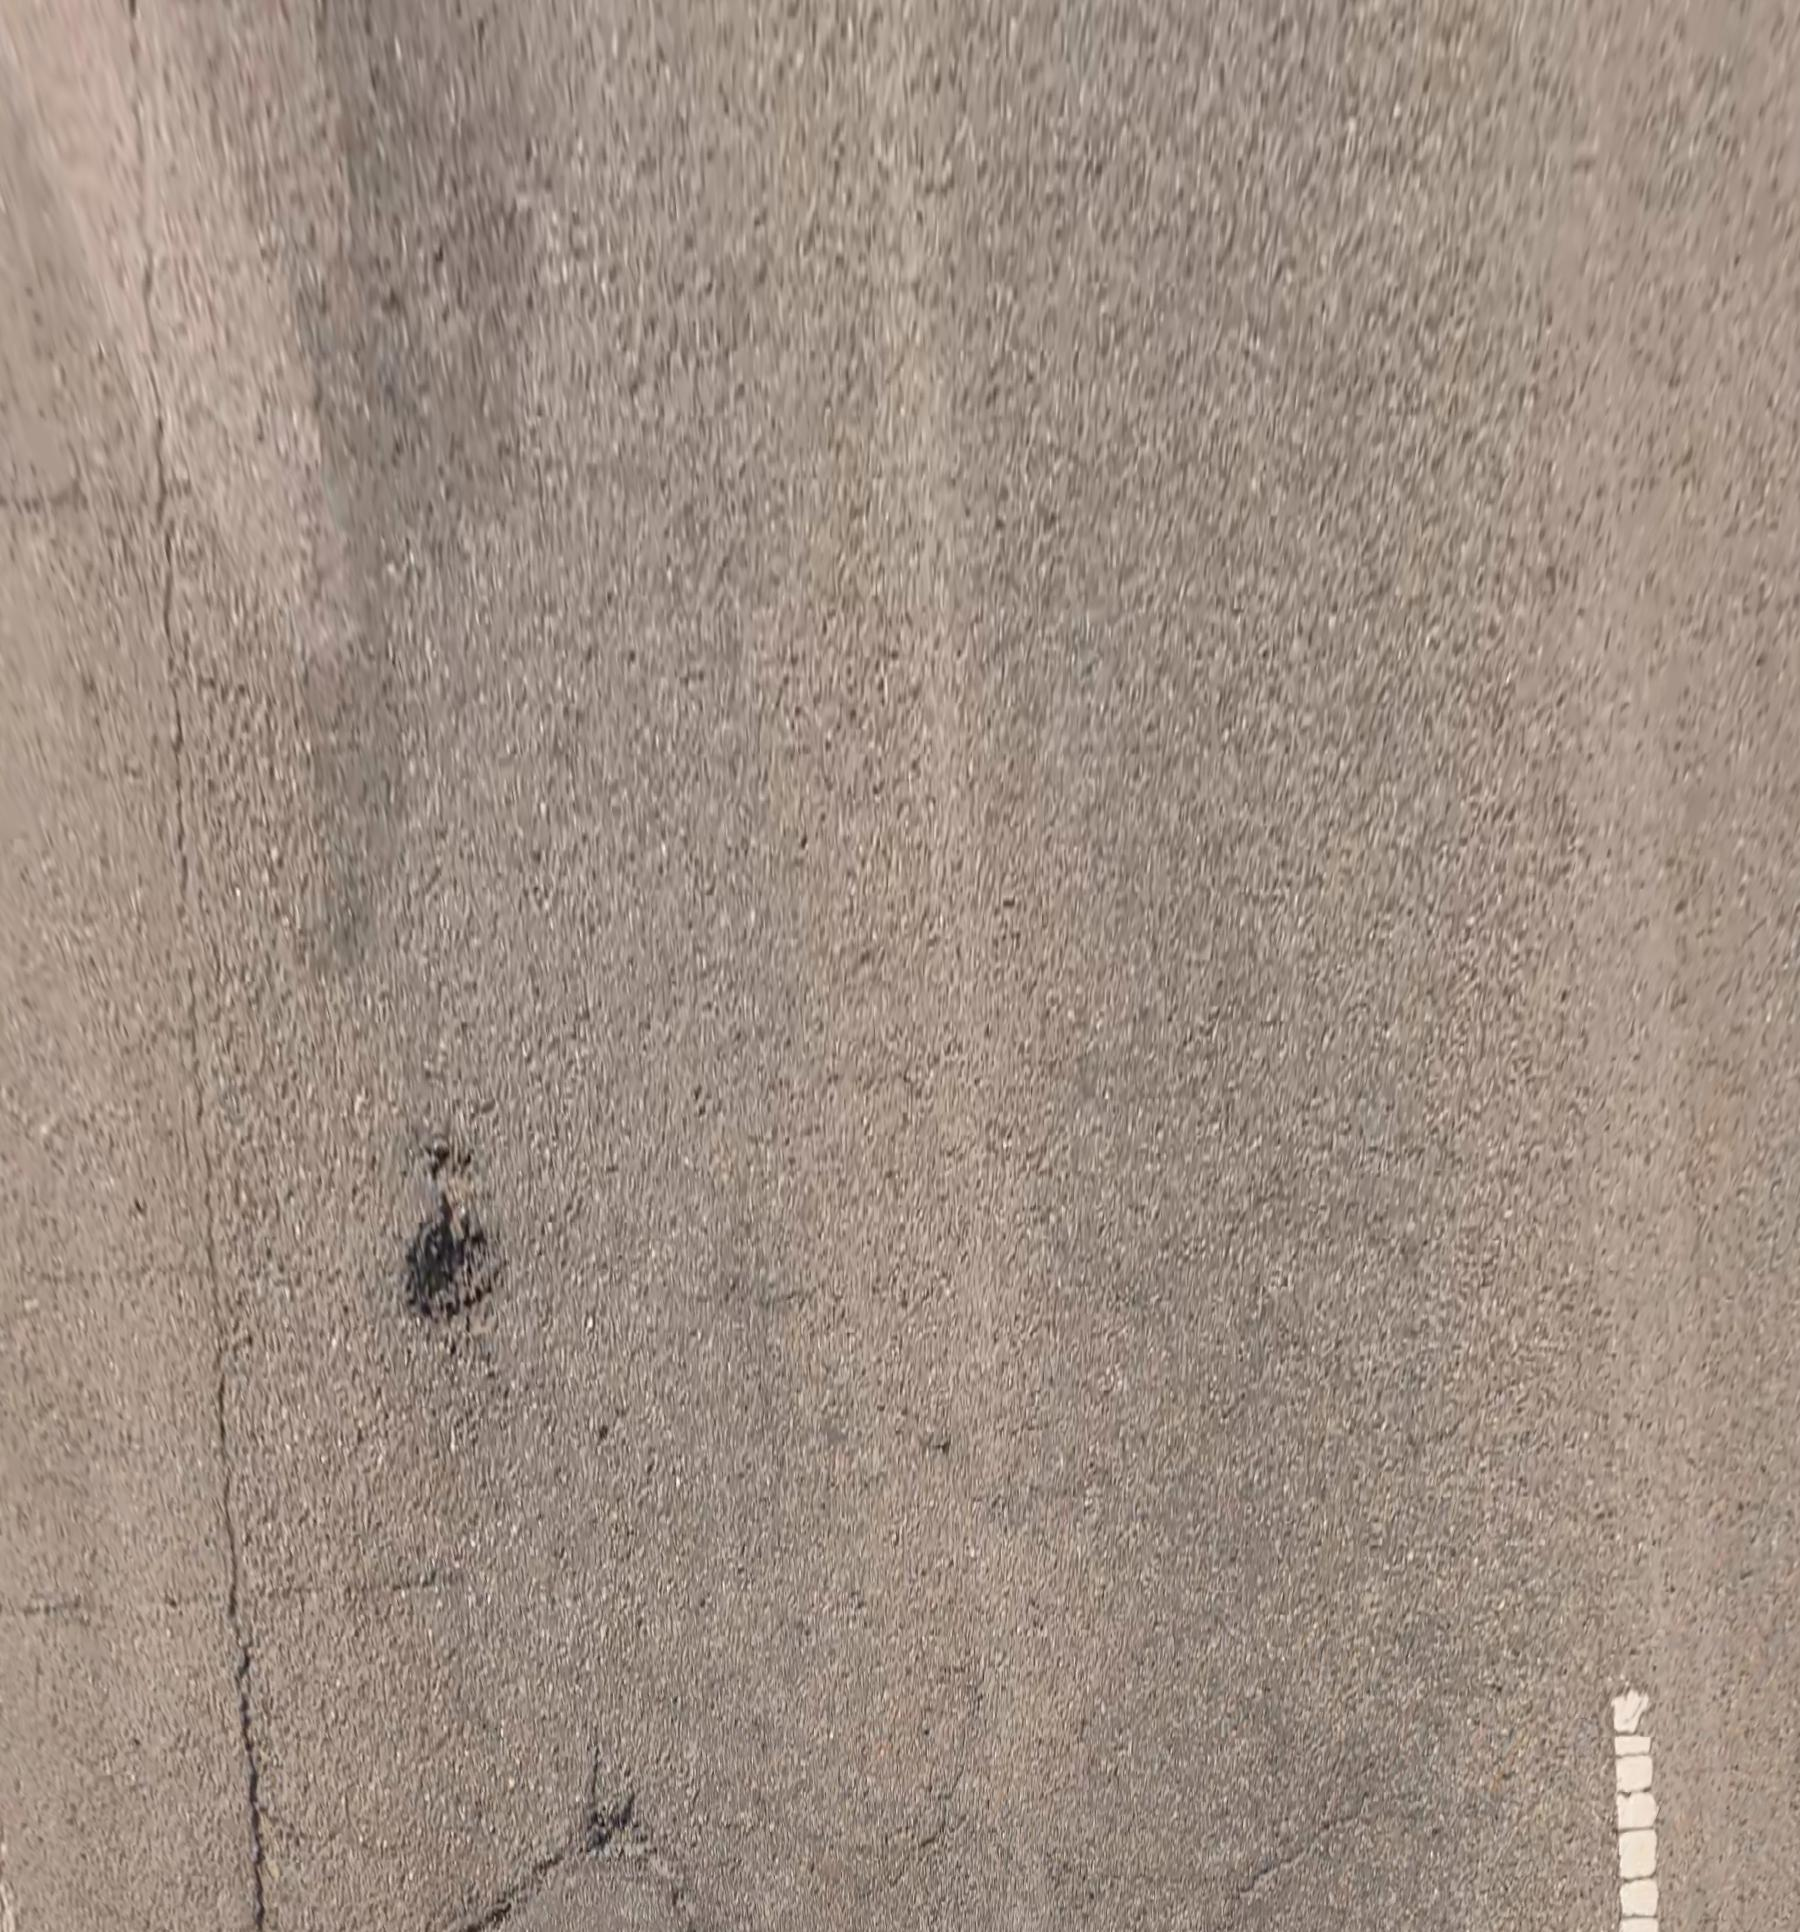pothole: (399, 1132, 496, 1321)
